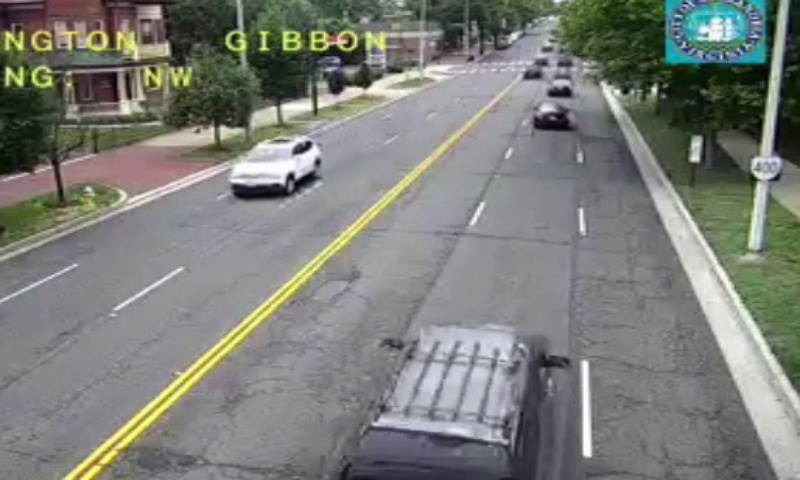car: (353, 323, 540, 480), (532, 102, 568, 130)
